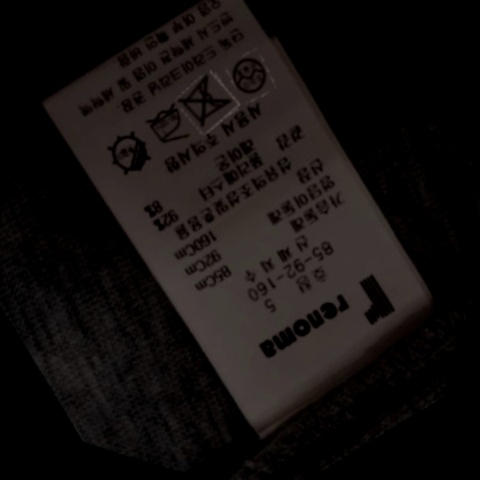DN_wash: (174, 71, 242, 133)
dry_clean_petrol_only: (225, 48, 278, 101)
iron_low: (137, 99, 197, 154)
line_dry_in_shade: (100, 126, 165, 184)
